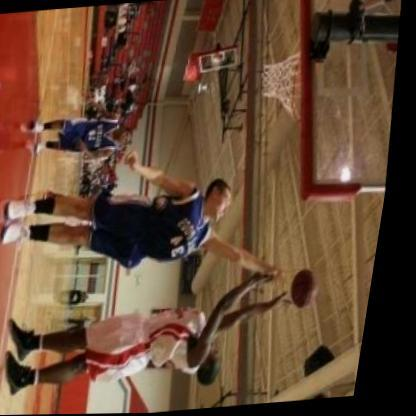basketball: (293, 266, 336, 310)
